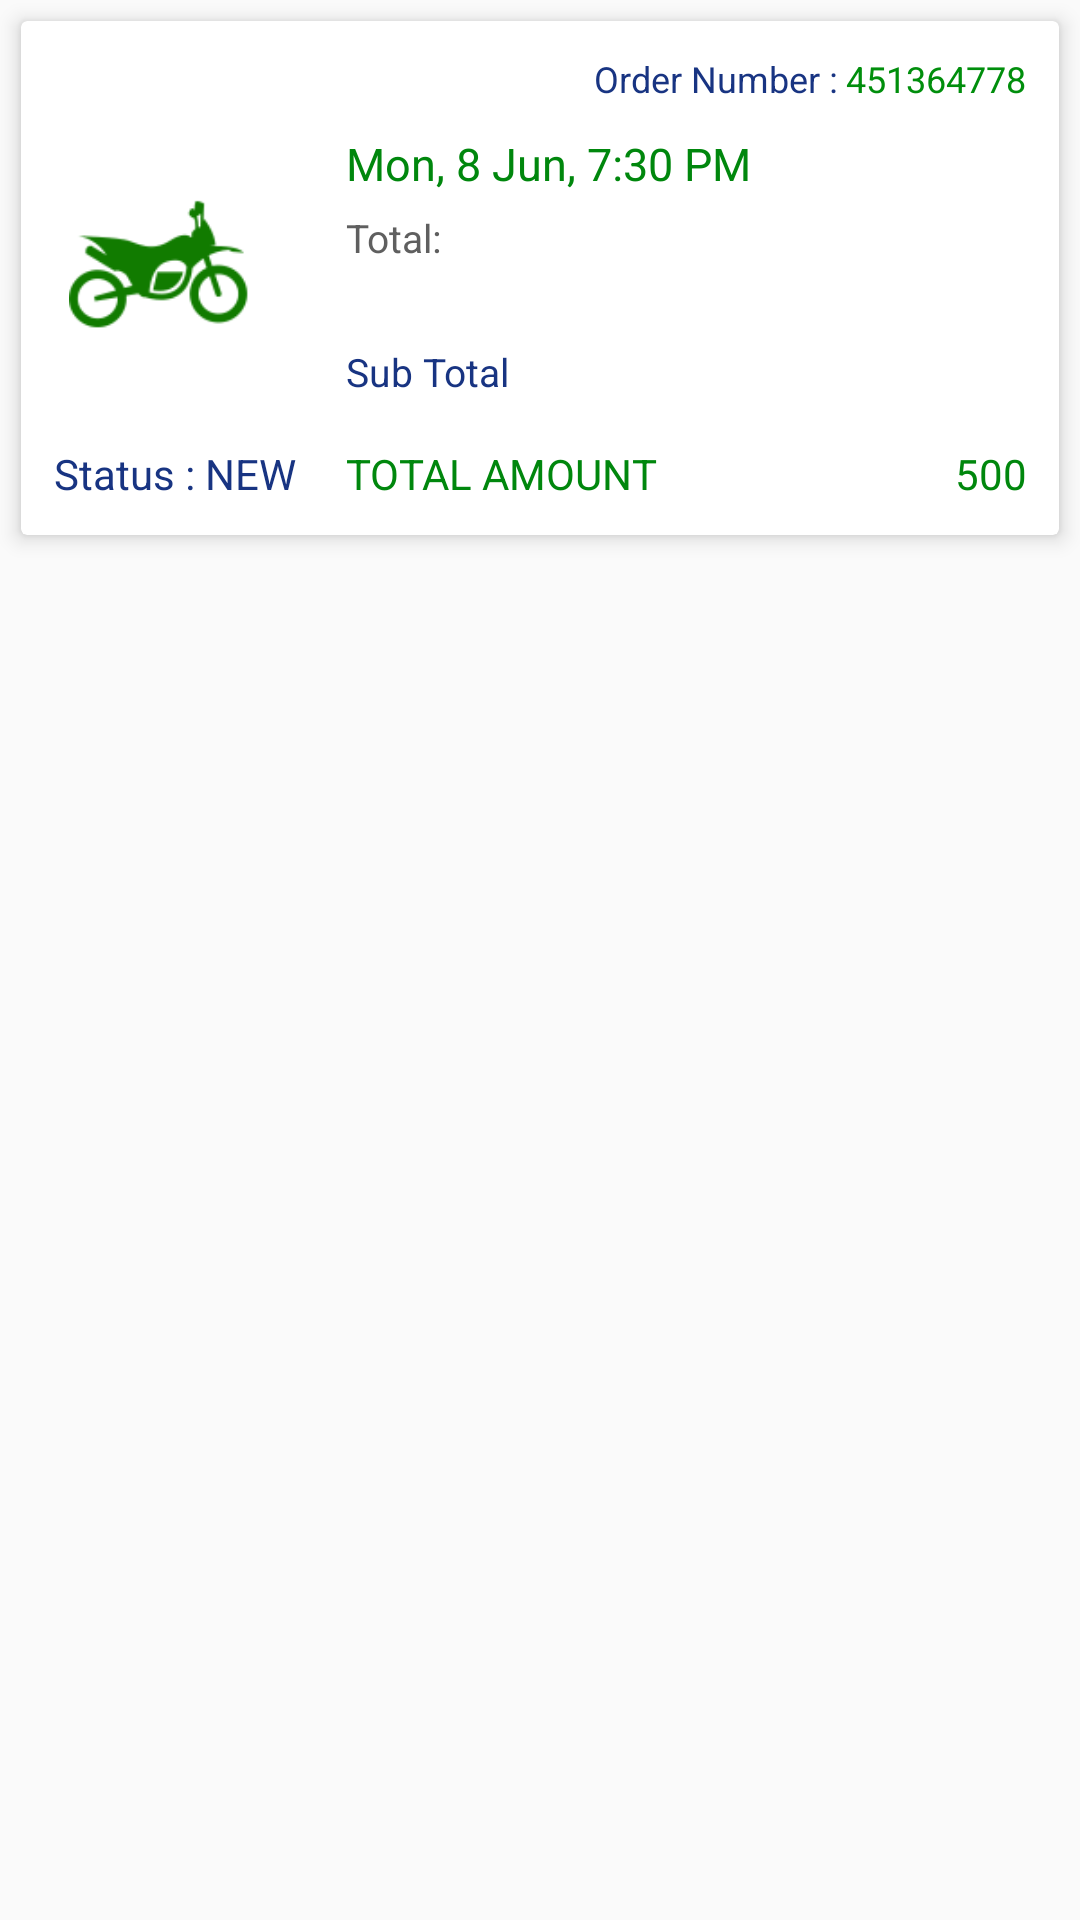

Icons on this 1080 × 1920 Android screen, each with the point to tap as [x,y]:
bike: [158,264]
